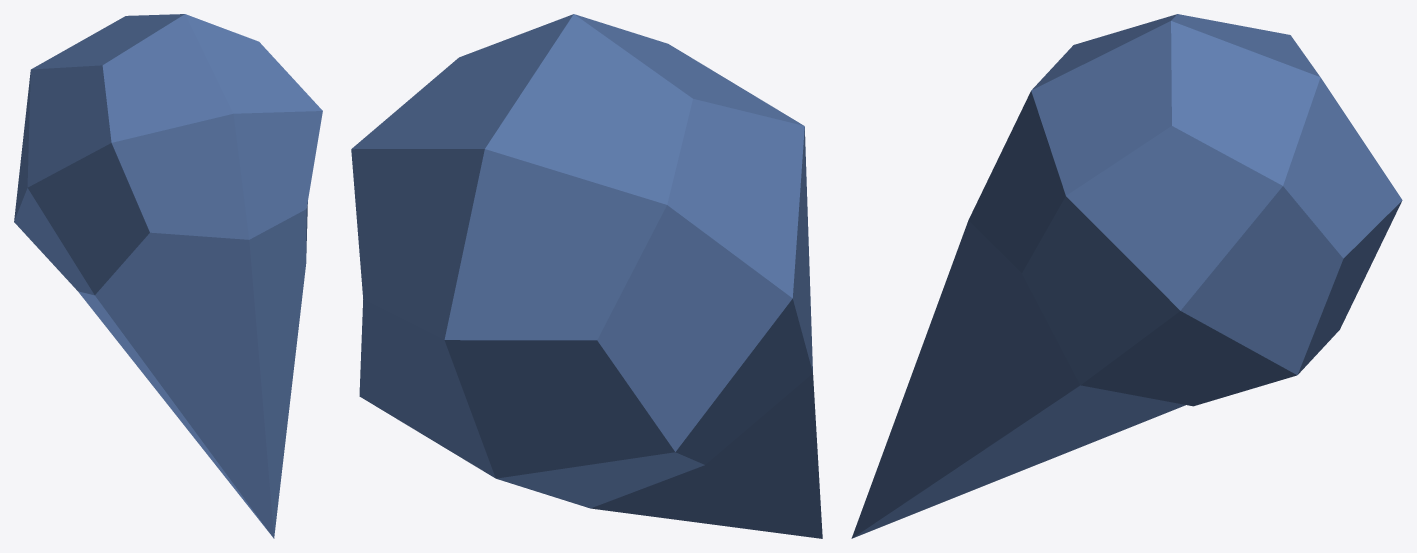
Rendered from WE01_Splash_Droplet.fbx.
3 views of the same model, side by side, from view 1: azimuth 30°, elevation 25°; view 2: azimuth 150°, elevation 25°; view 3: azimuth 270°, elevation 25° (orthographic). The views are drawn at different scales.
Visible parts, largest first — view 1: Droplet; view 2: Droplet; view 3: Droplet.
Boxes of the visible parts, <box> form: Droplet: <box>14,14,322,538</box>; Droplet: <box>351,14,822,538</box>; Droplet: <box>851,14,1402,538</box>.
Size of the model in its own units: 0.2994 by 0.4368 by 0.4034.
